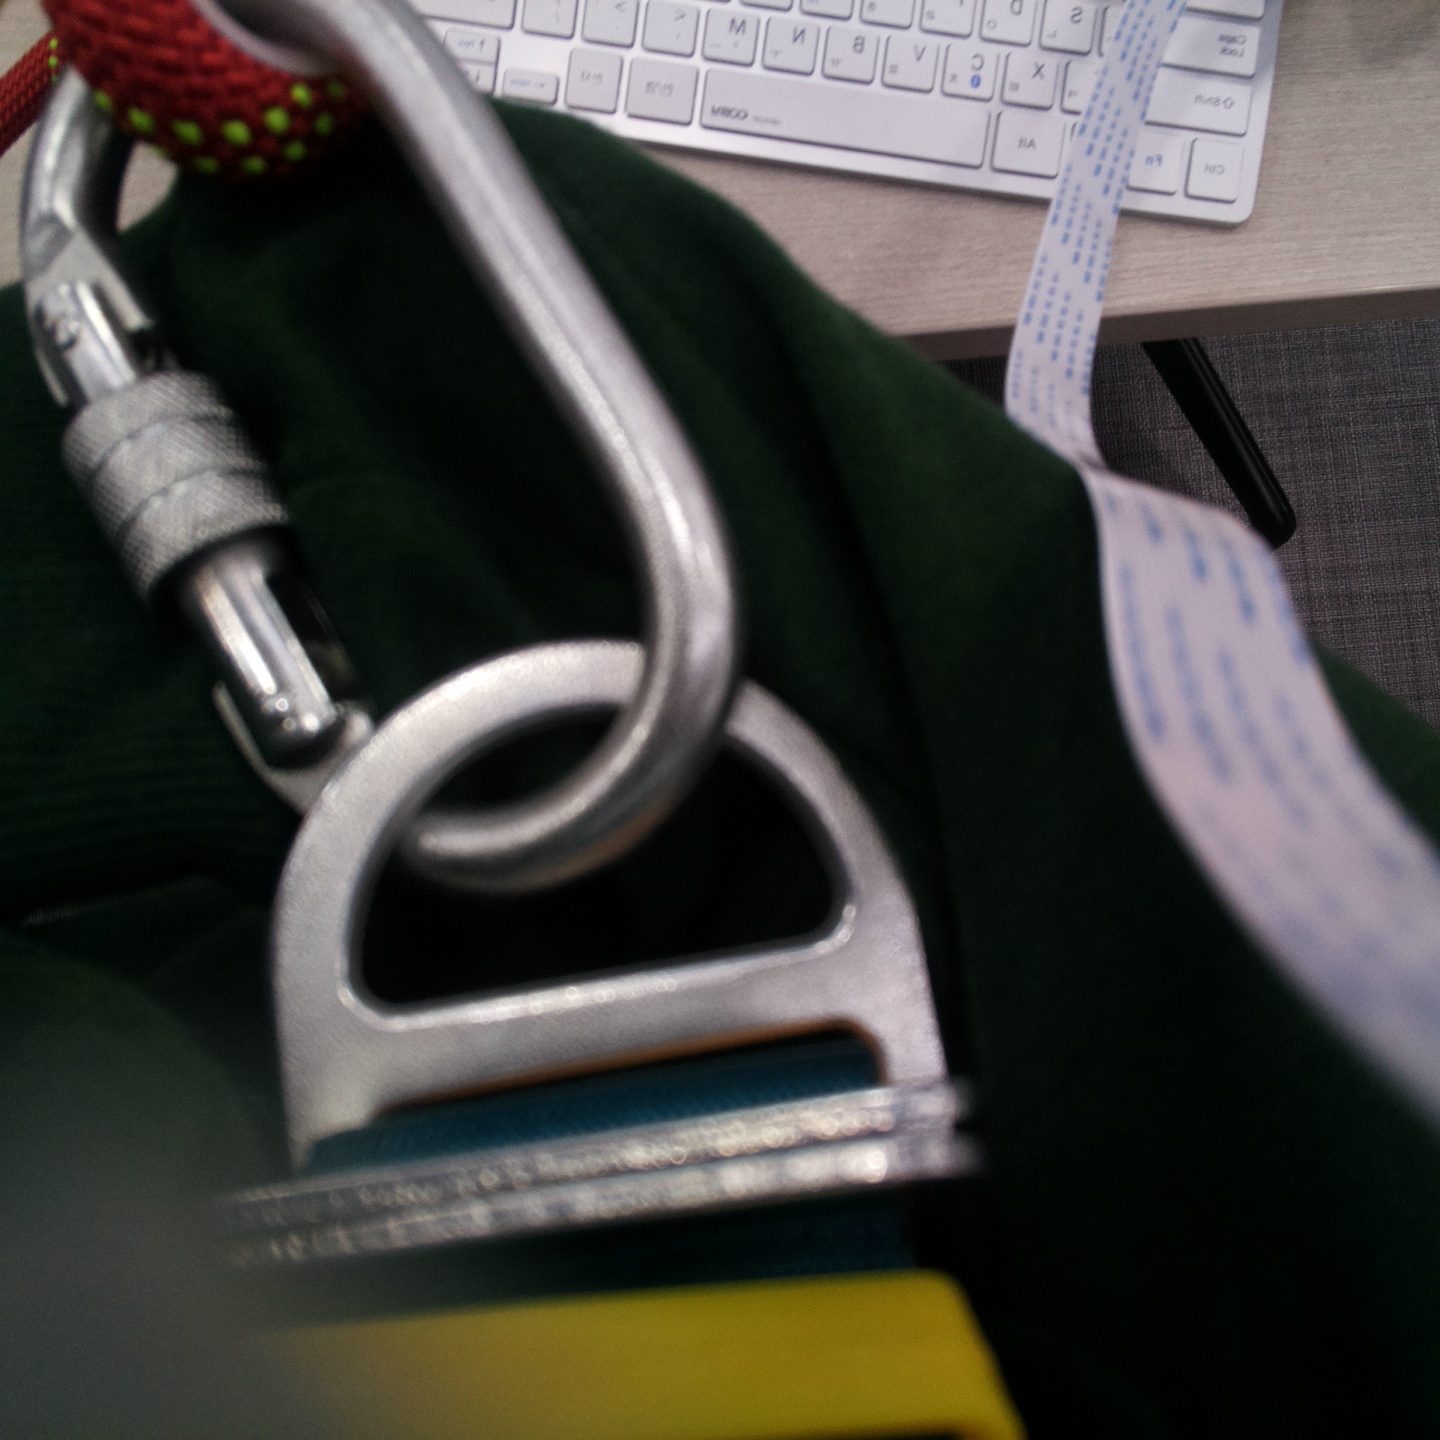SUCCESS: (18, 287, 740, 622)
